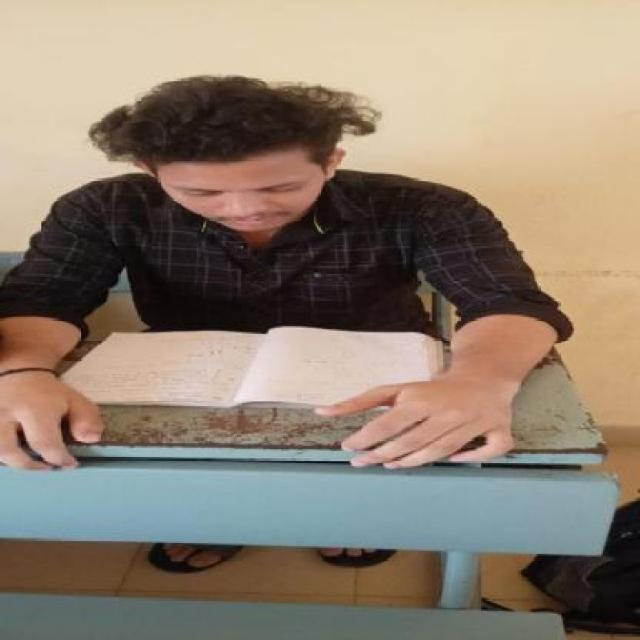good: (0, 46, 596, 474)
